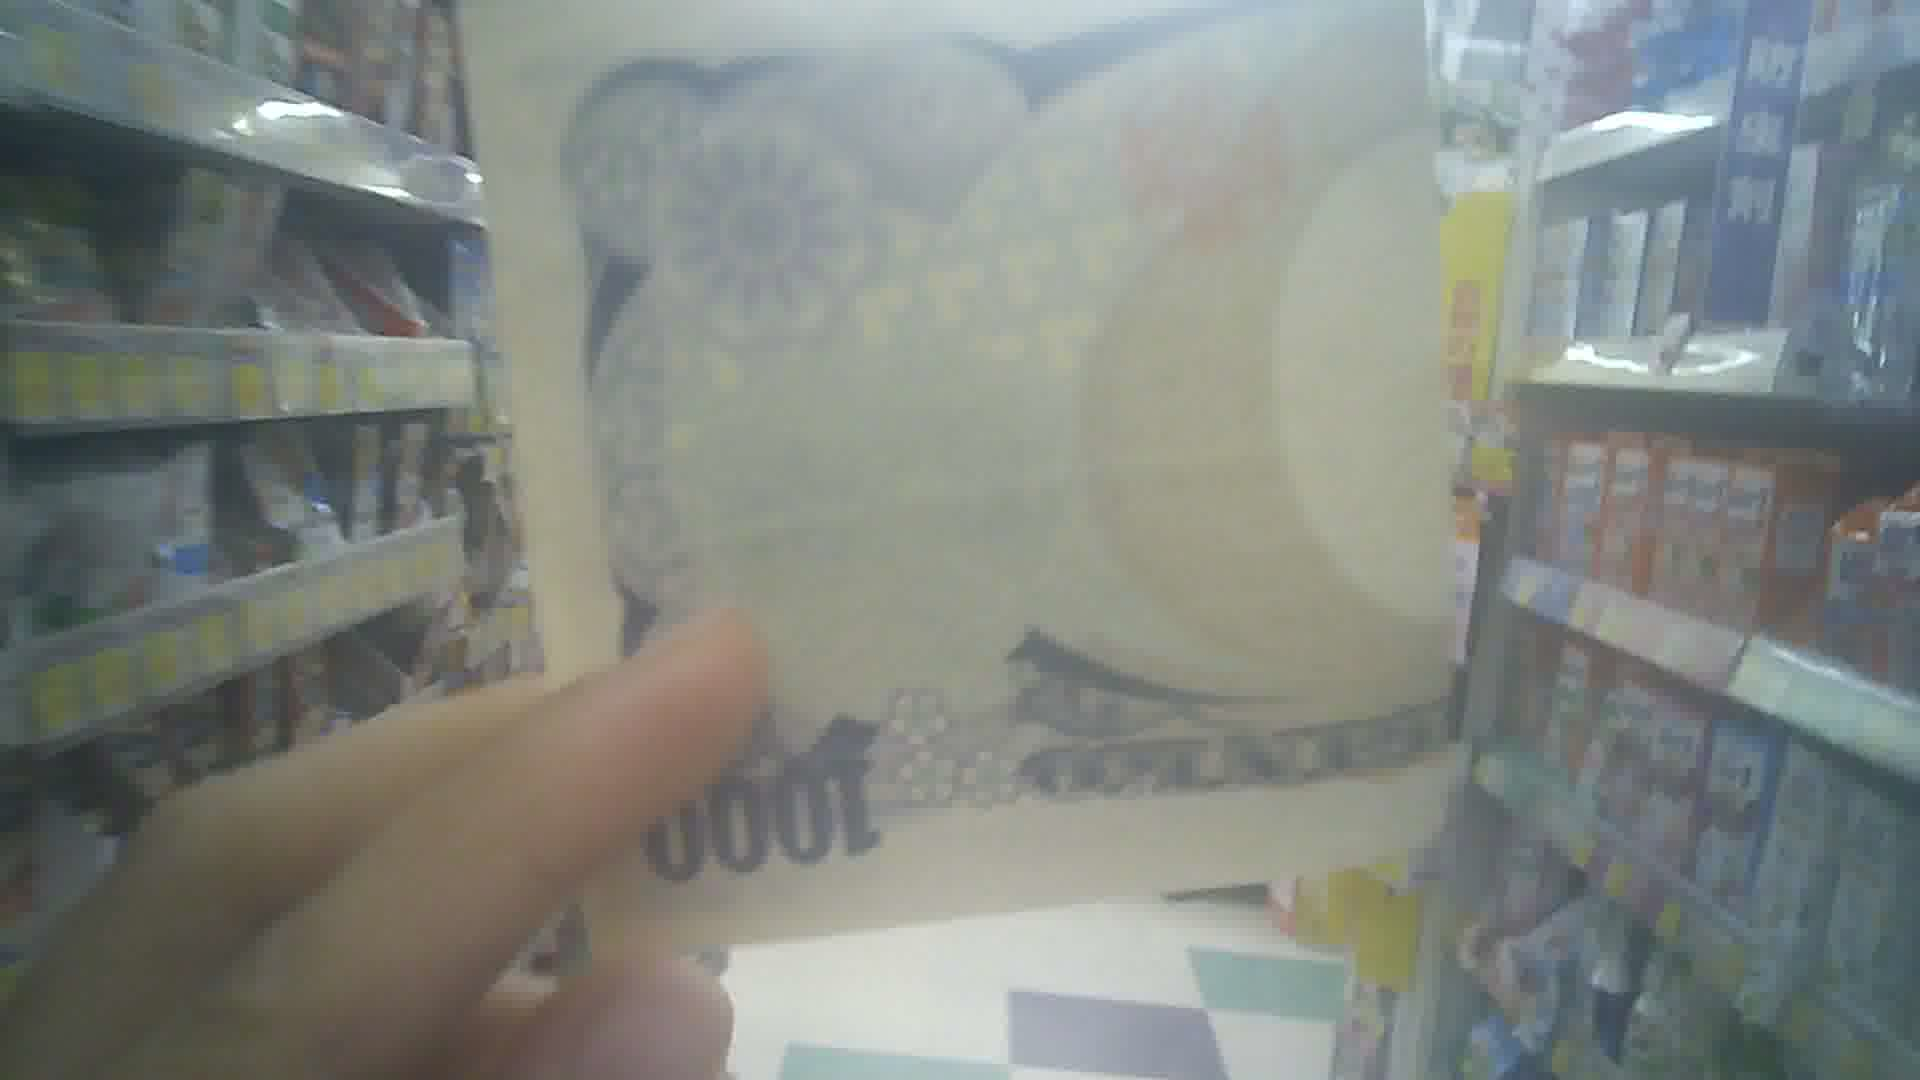1,000 Yen: (442, 4, 1501, 942)
